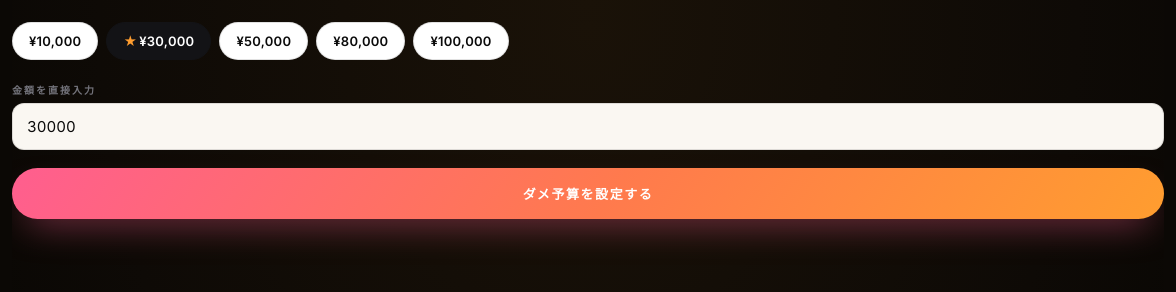
Test: BudgetForm (LC-BUDGET-12) › VR-B-02 違反 (1000 で割り切れない) でバリデーションエラー
Replace the text in the number field with test id "budget-input" with "1500" at (588, 126), box [12, 103, 1164, 150]
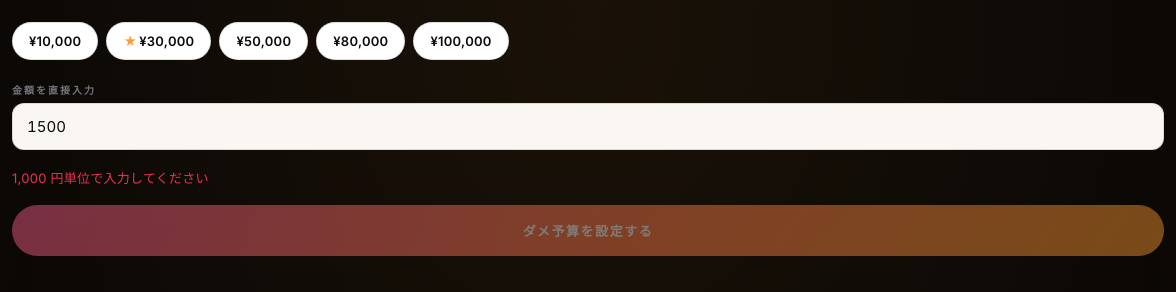
Now the message with test id "budget-validation-error" shows "1,000 円単位", box [12, 170, 209, 186]
